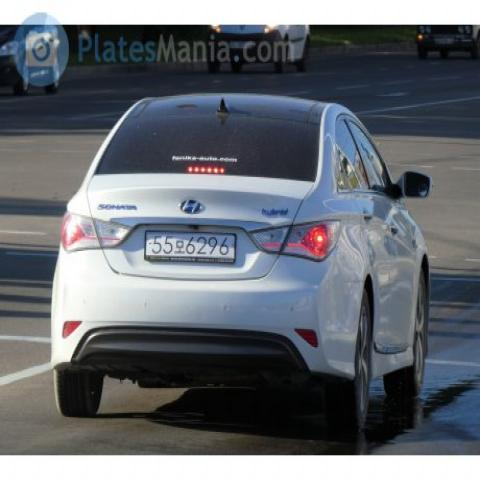LP: (138, 222, 249, 269)
